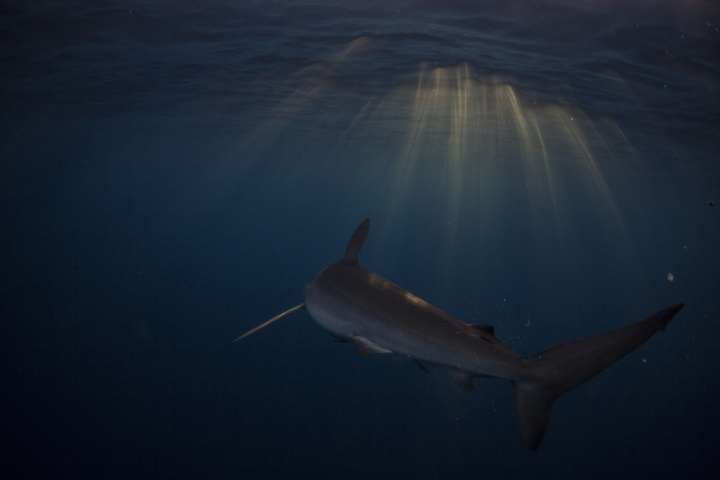Sedoso: (213, 211, 692, 457)
